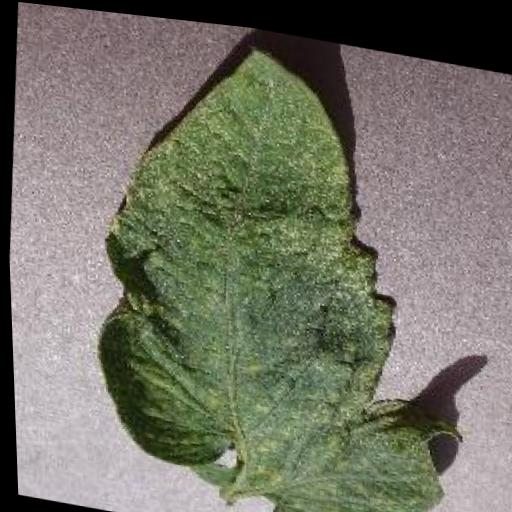Spider Mites: (74, 12, 486, 512)
